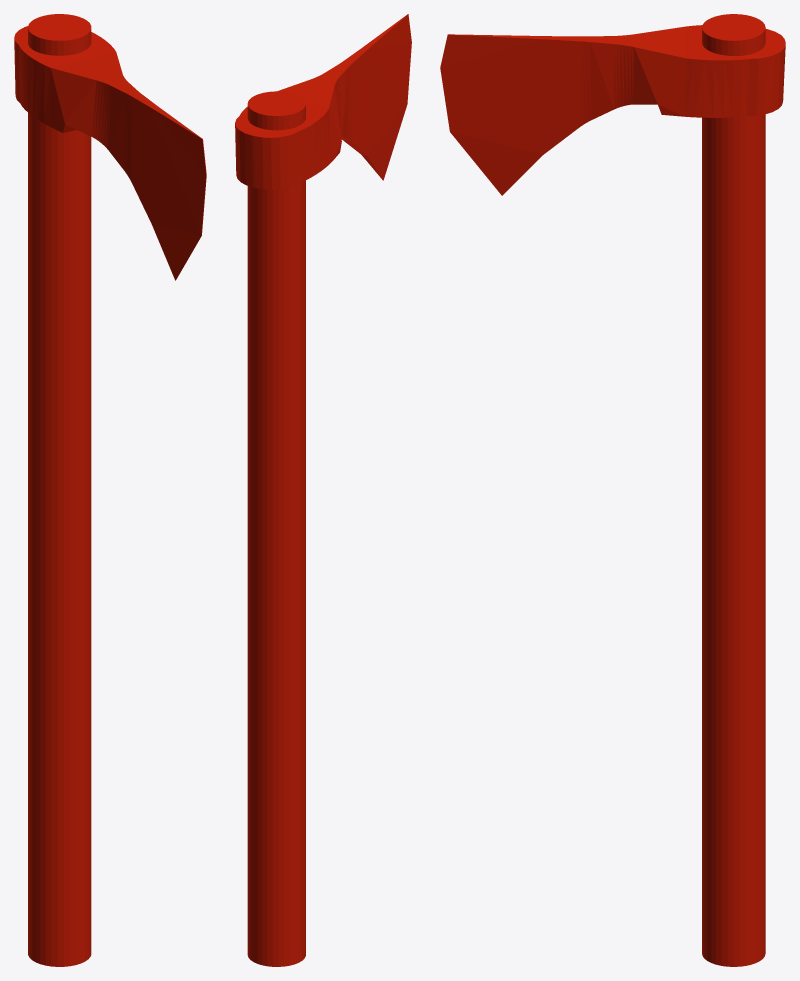
File: axe.dae
3 views of the same model, side by side, from view 1: azimuth 30°, elevation 25°; view 2: azimuth 150°, elevation 25°; view 3: azimuth 270°, elevation 25° (orthographic). The views are drawn at different scales.
Visible parts, largest first — view 1: Cube; view 2: Cube; view 3: Cube.
Boxes of the visible parts, left/top/right/bottom form: Cube: left=14, top=14, right=206, bottom=966; Cube: left=235, top=14, right=411, bottom=966; Cube: left=440, top=14, right=785, bottom=966.
Bounding box in the file's own units: 0.6188 × 2.45 × 7.25.
